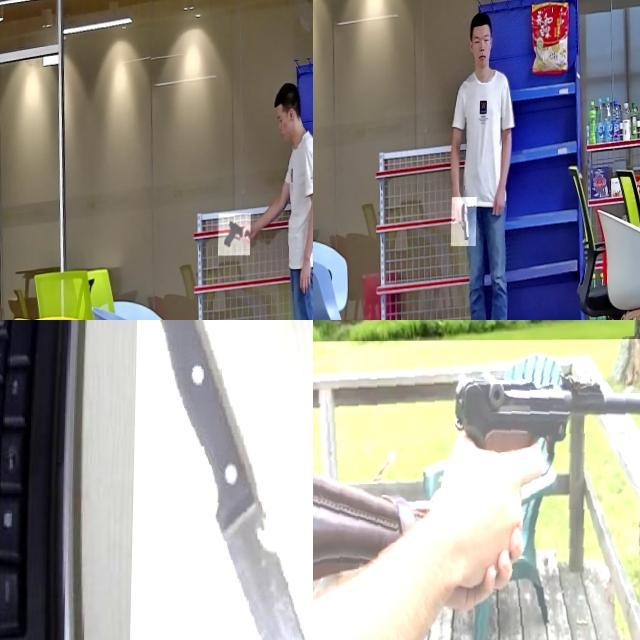-: (128, 320, 313, 640)
gun-knife-thesis - v11 Yolov5 augmented: (313, 339, 640, 640), (220, 214, 252, 256), (452, 198, 478, 246)
